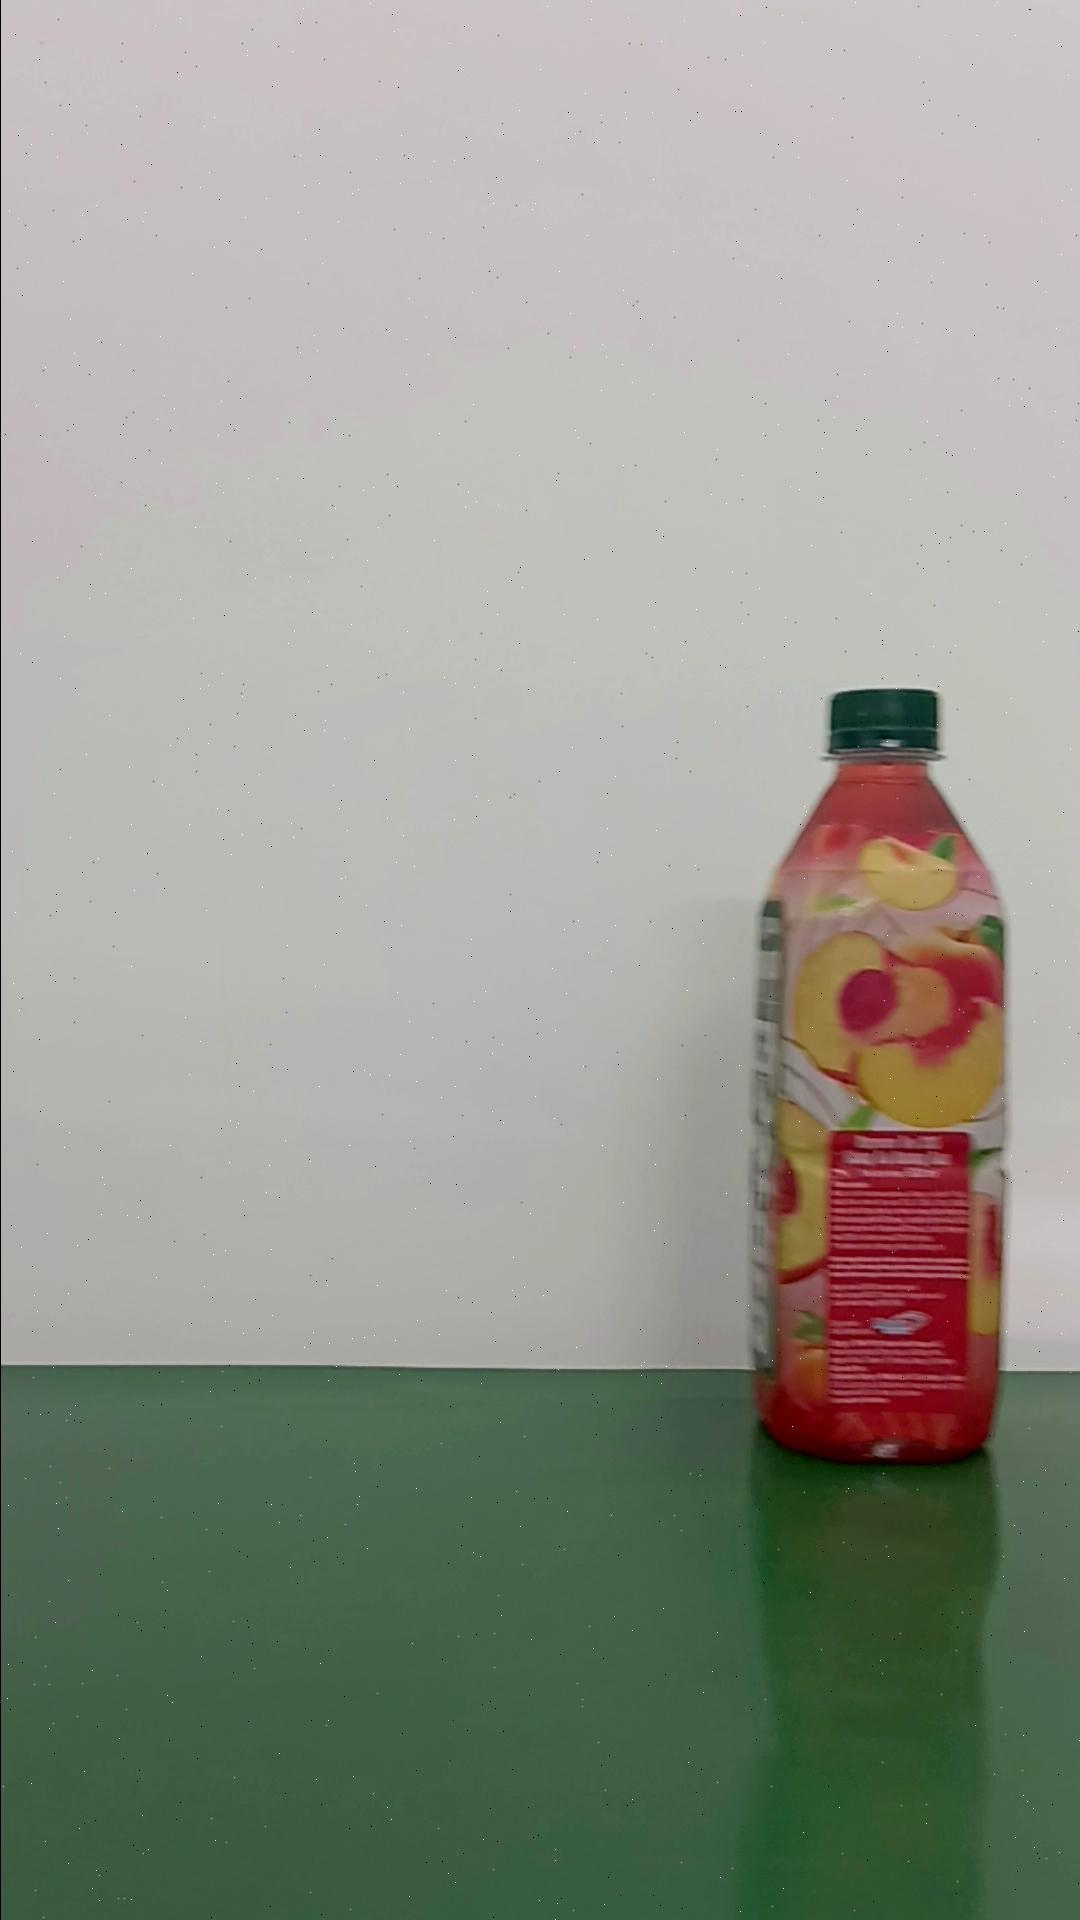khong loi: (742, 684, 1010, 1464)
